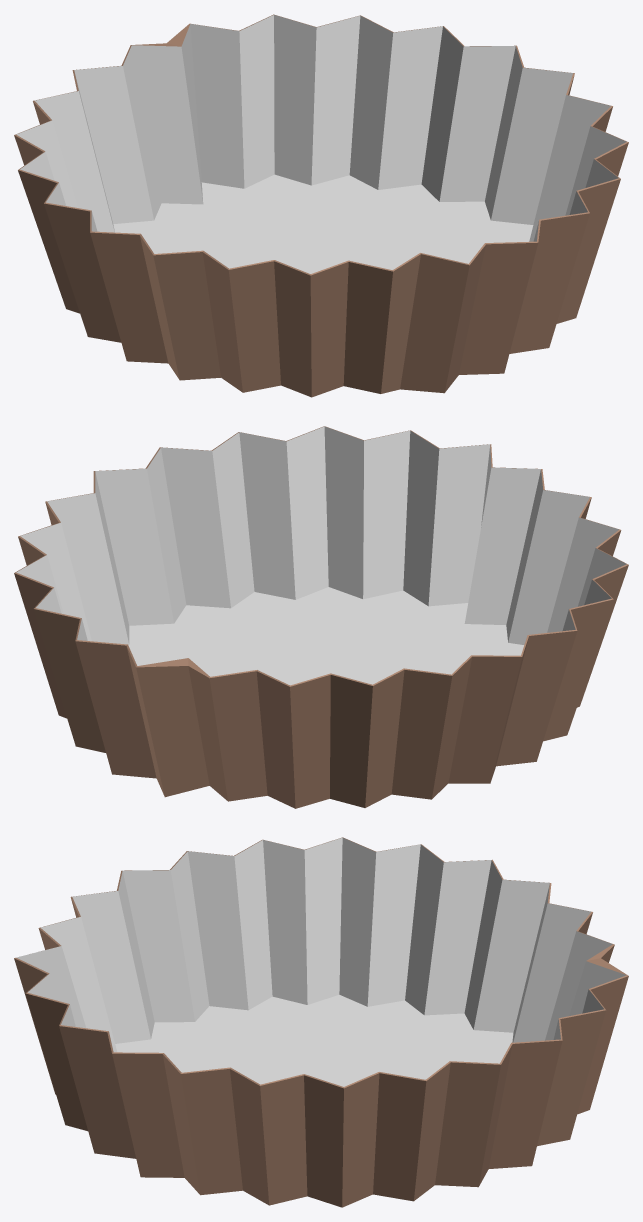
The model's file is kertas cetakan.fbx.
3 renders of one model, top to bottom at view 1: azimuth 30°, elevation 25°; view 2: azimuth 150°, elevation 25°; view 3: azimuth 270°, elevation 25°, orthographic. The views are drawn at different scales.
Visible parts, largest first — view 1: Circle; view 2: Circle; view 3: Circle.
Part boxes in pixels (x1,y1,x2,y2): Circle: [14, 14, 628, 397]; Circle: [14, 426, 628, 808]; Circle: [14, 837, 628, 1207].
Bounding box in the file's own units: 287 × 74.04 × 297.
